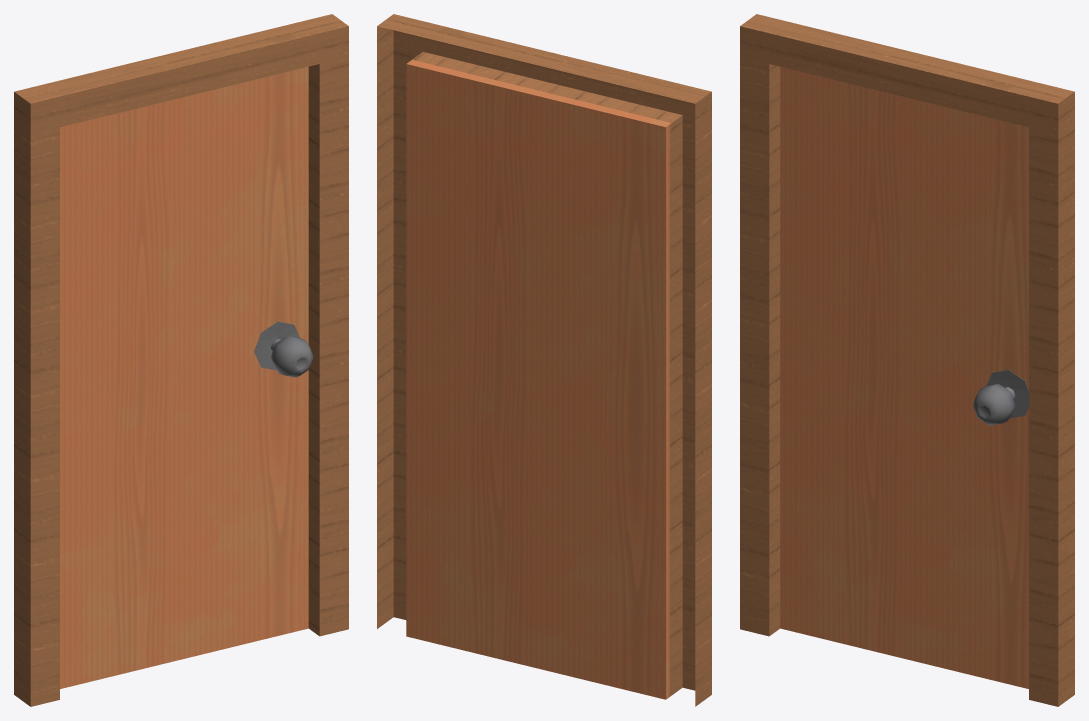
The model's file is Door_001_SM.fbx.
3 views of the same model, side by side, from view 1: azimuth 30°, elevation 25°; view 2: azimuth 150°, elevation 25°; view 3: azimuth 330°, elevation 25° (orthographic).
Parts seen in each view (by area): view 1: Door_001_SM; view 2: Door_001_SM; view 3: Door_001_SM.
Boxes of the visible parts, bbox=[...] form: Door_001_SM: bbox=[14, 14, 348, 706]; Door_001_SM: bbox=[377, 14, 711, 706]; Door_001_SM: bbox=[740, 14, 1074, 706].
Size of the model in its own units: 124 by 224 by 20.4.
Materials: 1 (1 with a texture image).
